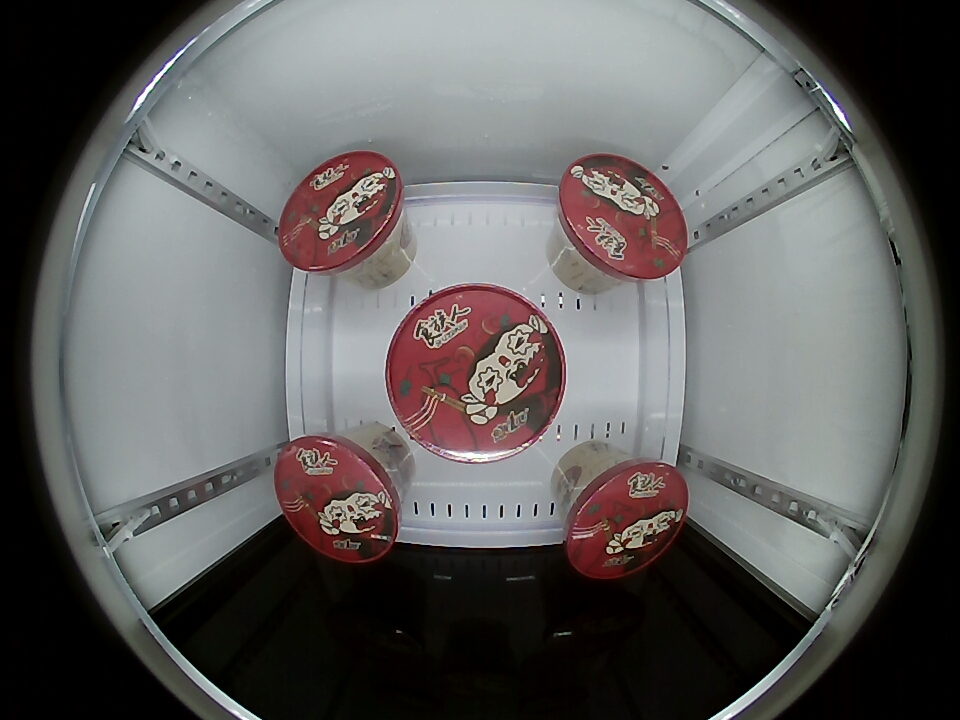suanlafen: (384, 283, 568, 464), (556, 154, 688, 282), (274, 435, 405, 563), (278, 151, 406, 276), (562, 458, 690, 578)
